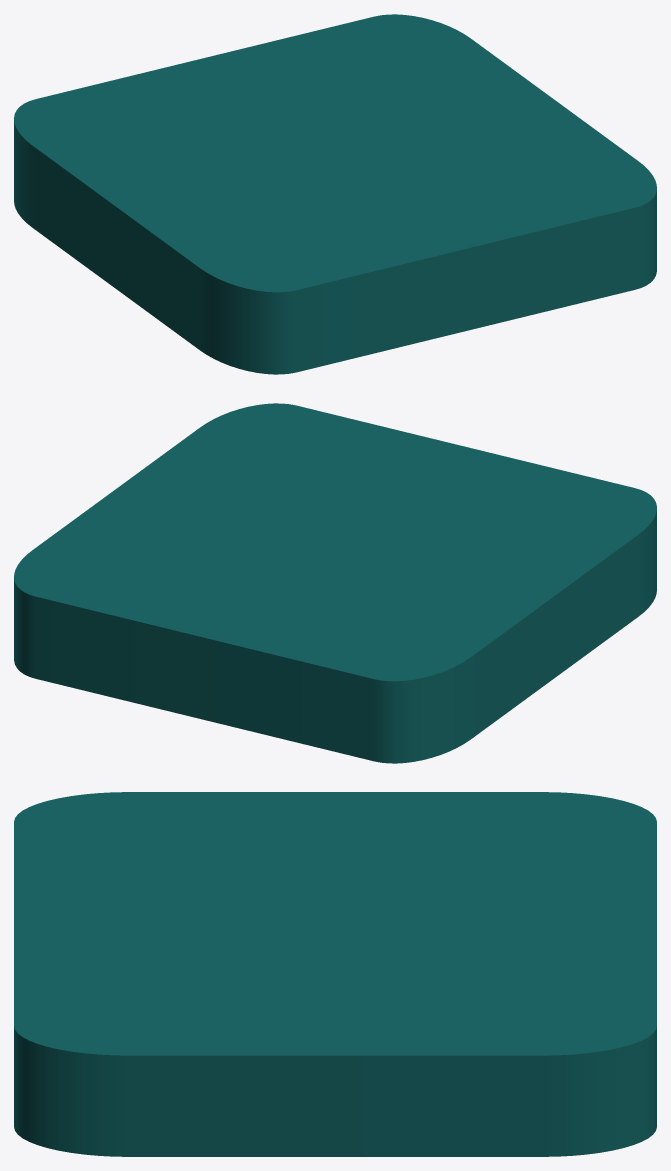
Rendered from original-108.obj.
3 renders of one model, top to bottom at view 1: azimuth 30°, elevation 25°; view 2: azimuth 150°, elevation 25°; view 3: azimuth 270°, elevation 25°, orthographic. The views are drawn at different scales.
Parts seen in each view (by area): view 1: mesh105/mesh105-geometry#mesh105-geometry; view 2: mesh105/mesh105-geometry#mesh105-geometry; view 3: mesh105/mesh105-geometry#mesh105-geometry.
Boxes of the visible parts, x1=… form: mesh105/mesh105-geometry#mesh105-geometry: x1=14, y1=14, x2=656, y2=374; mesh105/mesh105-geometry#mesh105-geometry: x1=14, y1=403, x2=656, y2=763; mesh105/mesh105-geometry#mesh105-geometry: x1=14, y1=792, x2=656, y2=1156.
Bounding box in the file's own units: 0.0623 × 0.0112 × 0.0642.
